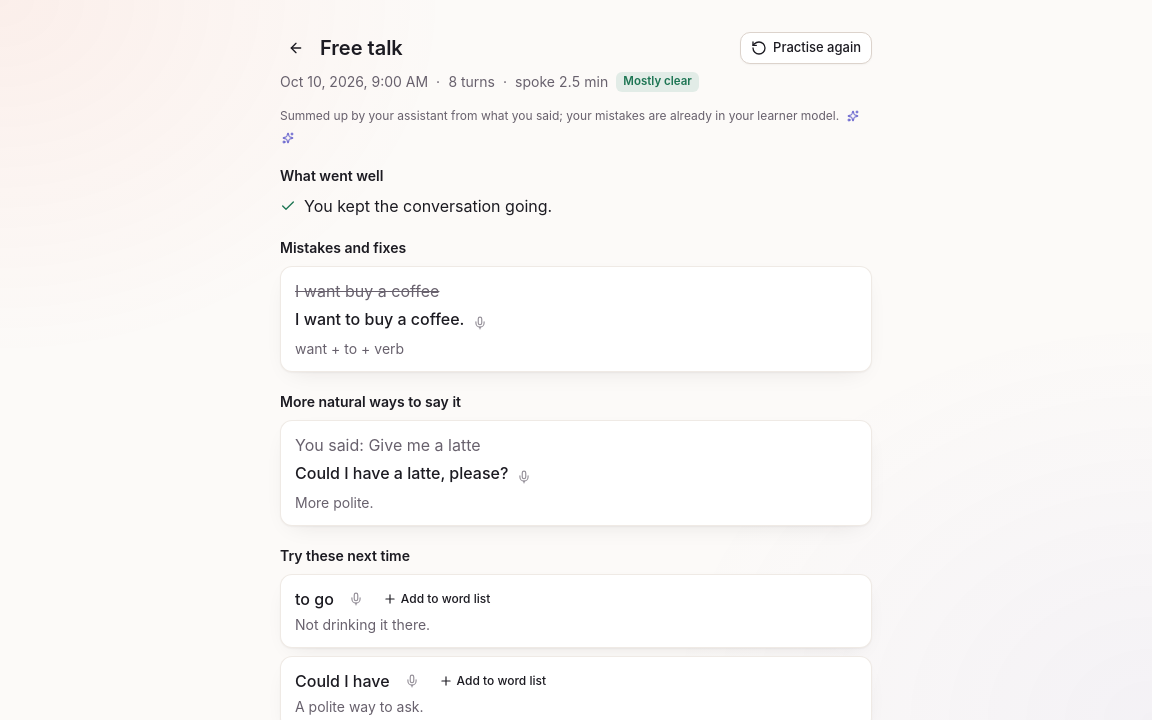
Test: SpeakingSummaryView › puts an expression on the word list, or says the dictionary has none
Click the button "Add to word list" next to "to go": (437,599) [374,587,499,611]
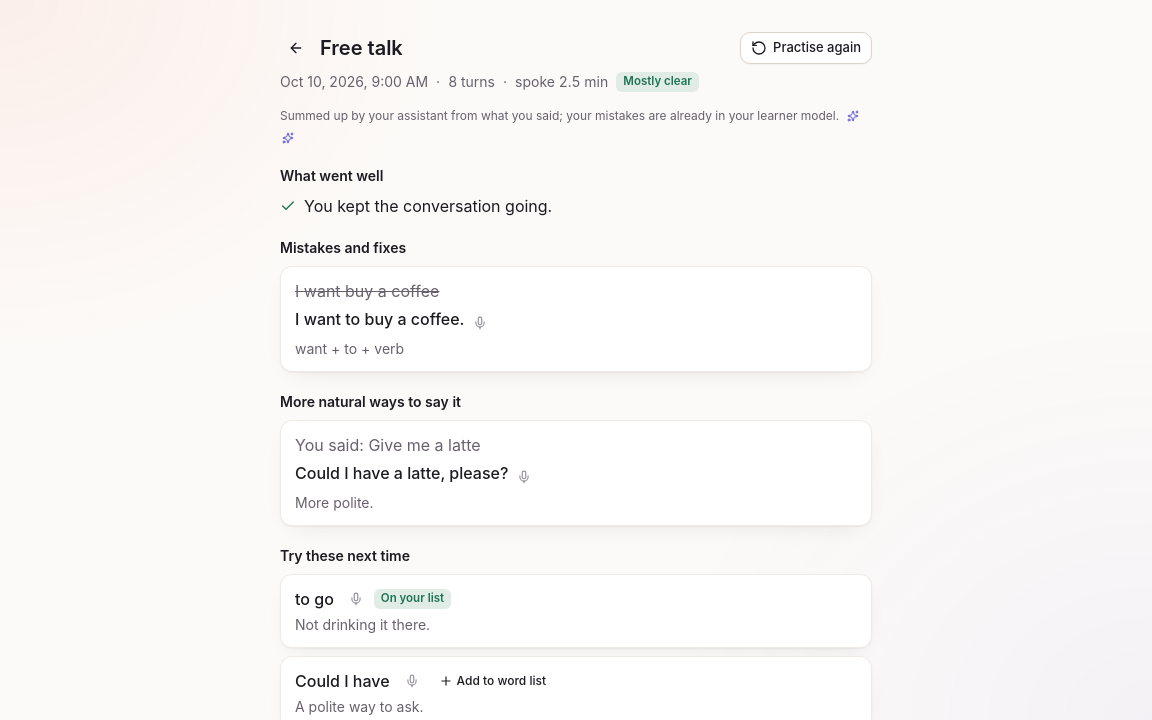
Now the text "On your list" is shown, box [374,589,451,609]
Click the button "Add to word list": (492,681) [430,669,555,693]
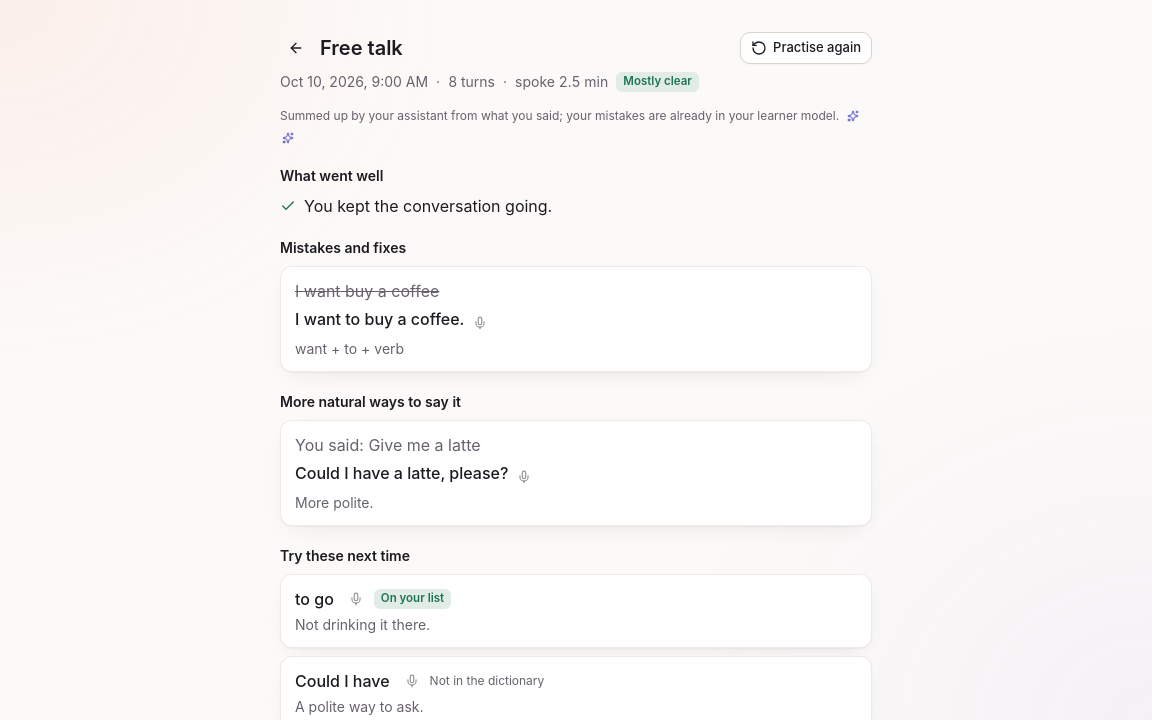
Now the text "Not in the dictionary" is shown, box [430,673,544,689]
